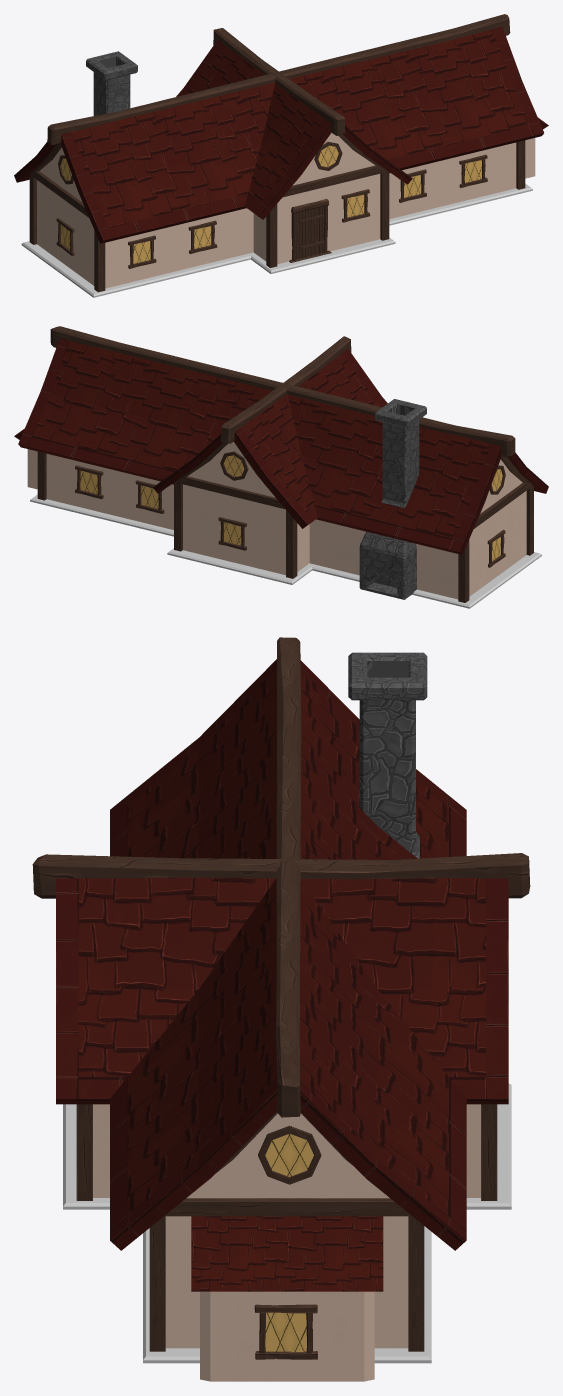
The model's file is HouseF.fbx.
3 views of the same model, one above another, from view 1: azimuth 30°, elevation 25°; view 2: azimuth 150°, elevation 25°; view 3: azimuth 270°, elevation 25° (orthographic). The views are drawn at different scales.
Parts seen in each view (by area): view 1: House.047; view 2: House.047; view 3: House.047.
Boxes of the visible parts, x1,y1,x2,y2 form: House.047: [14, 14, 548, 297]; House.047: [14, 326, 548, 608]; House.047: [32, 637, 530, 1381].
Size of the model in its own units: 27.16 by 9.39 by 12.3.
